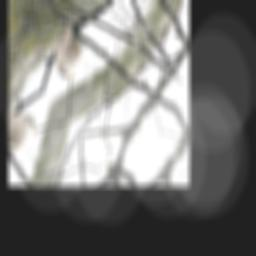Cuckoo: (43, 18, 96, 87)
